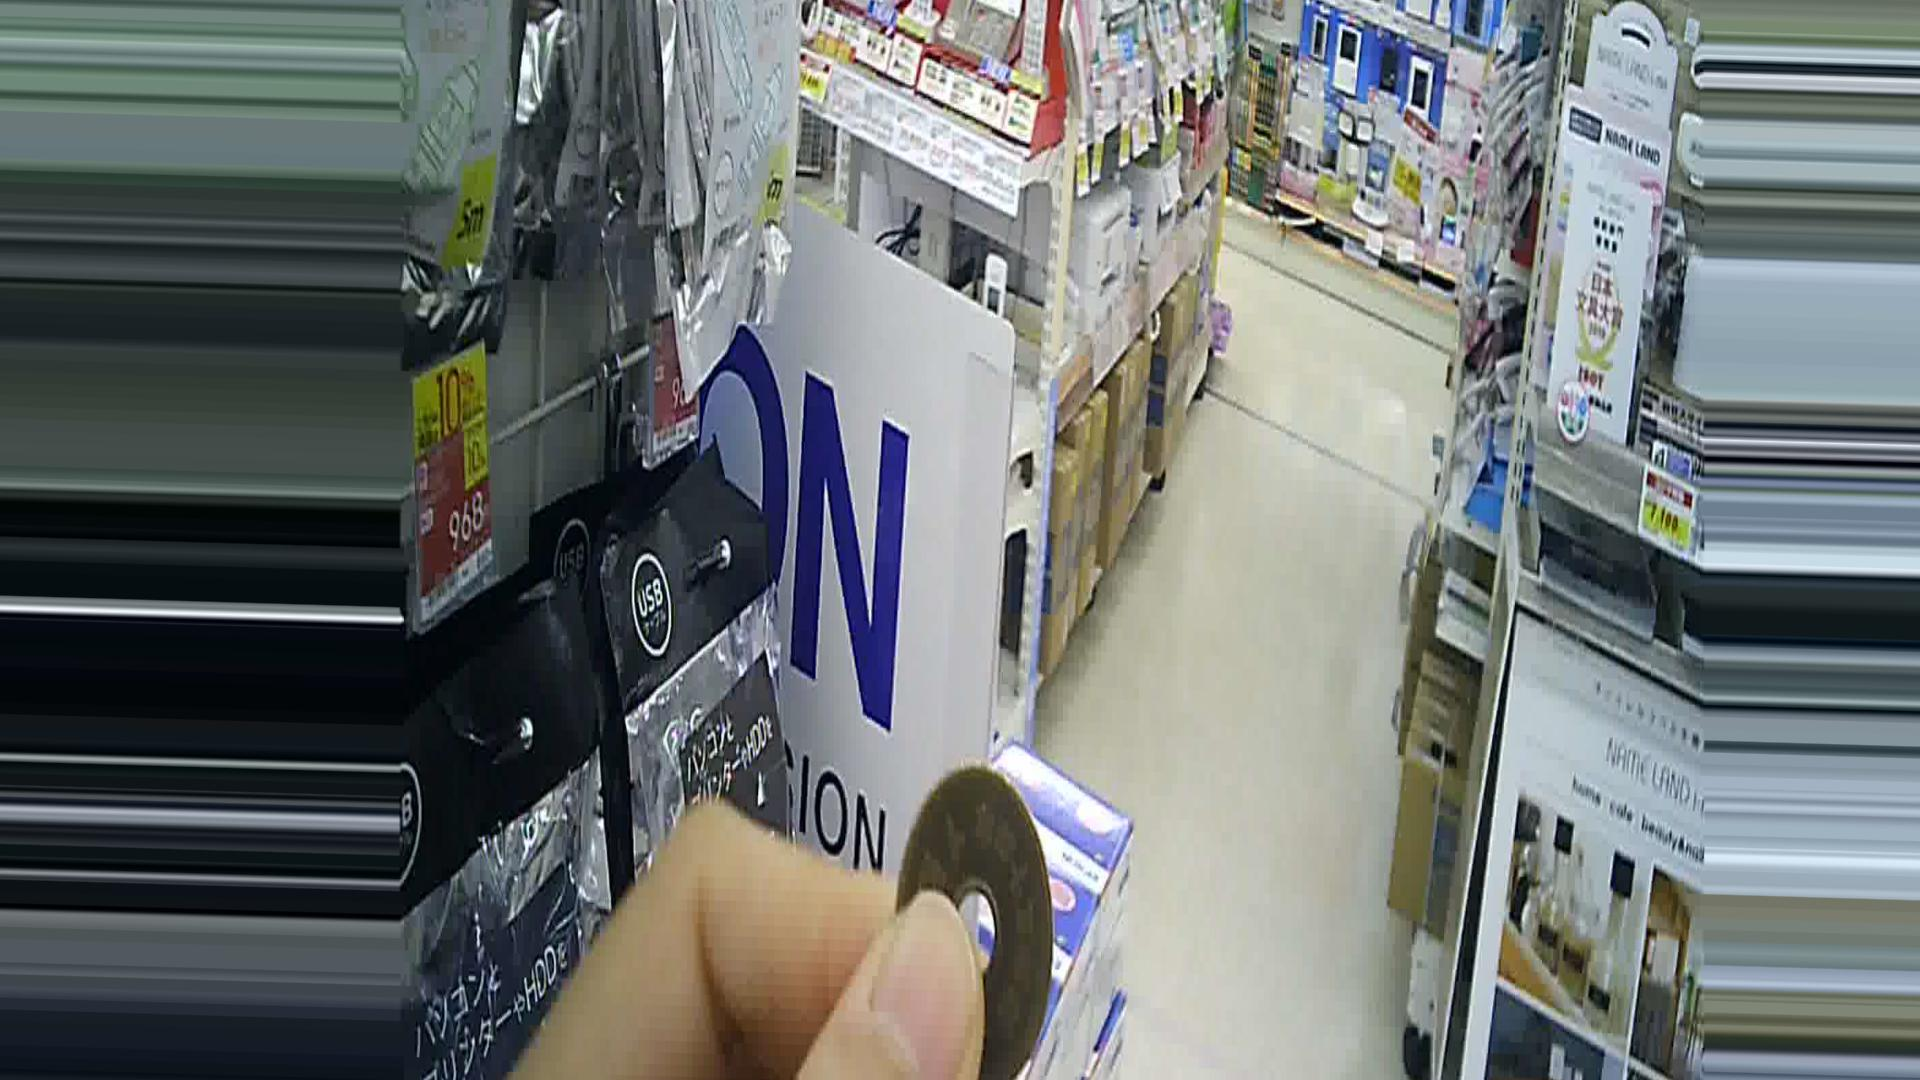5 Yen: (876, 767, 1069, 1069)
